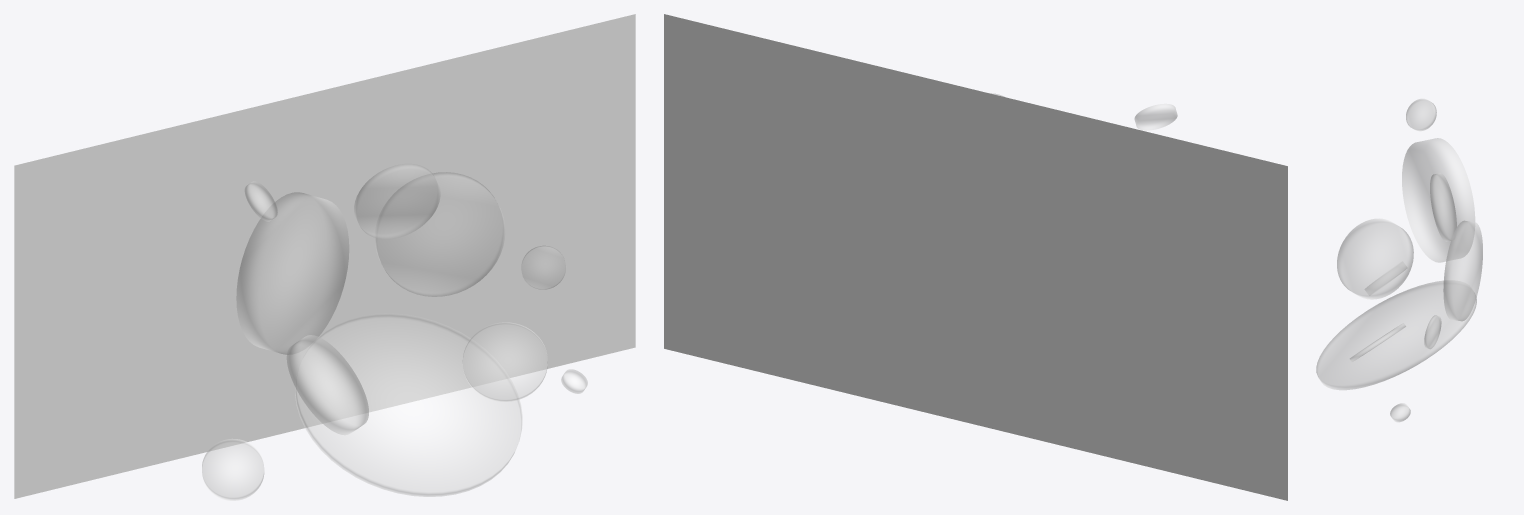
File: 01M_opticke-materialy.glb
3 views of the same model, side by side, from view 1: azimuth 30°, elevation 25°; view 2: azimuth 150°, elevation 25°; view 3: azimuth 270°, elevation 25° (orthographic). The views are drawn at different scales.
Visible parts, largest first — view 1: BUBLINA, Circle.002, Circle, Circle.001, Circle.003, Circle.004, Circle.005, Circle.007, Circle.006, Circle.008; view 2: BUBLINA, Circle.008; view 3: Circle.002, Circle, Circle.004, Circle.001, Circle.005, Circle.008, Circle.007, Circle.006, Circle.003, Circle.009.
Part boxes in pixels (x1=…): BUBLINA: x1=14, y1=14, x2=635, y2=498; Circle.002: x1=295, y1=313, x2=522, y2=496; Circle: x1=236, y1=192, x2=349, y2=354; Circle.001: x1=374, y1=172, x2=505, y2=296; Circle.003: x1=462, y1=322, x2=547, y2=401; Circle.004: x1=286, y1=335, x2=368, y2=435; Circle.005: x1=354, y1=163, x2=440, y2=239; Circle.007: x1=202, y1=438, x2=264, y2=500; Circle.006: x1=521, y1=245, x2=566, y2=289; Circle.008: x1=244, y1=181, x2=277, y2=221; BUBLINA: x1=664, y1=14, x2=1287, y2=500; Circle.008: x1=1134, y1=103, x2=1177, y2=130; Circle.002: x1=1316, y1=280, x2=1476, y2=390; Circle: x1=1402, y1=138, x2=1475, y2=262; Circle.004: x1=1337, y1=218, x2=1413, y2=299; Circle.001: x1=1443, y1=220, x2=1482, y2=321; Circle.005: x1=1430, y1=173, x2=1456, y2=241; Circle.008: x1=1406, y1=98, x2=1436, y2=131; Circle.007: x1=1365, y1=261, x2=1406, y2=295; Circle.006: x1=1424, y1=315, x2=1441, y2=348; Circle.003: x1=1350, y1=323, x2=1405, y2=361; Circle.009: x1=1390, y1=403, x2=1410, y2=422.
Bounding box in the file's own units: 1.95 × 1 × 0.6879.
3 materials, 1 textured.
